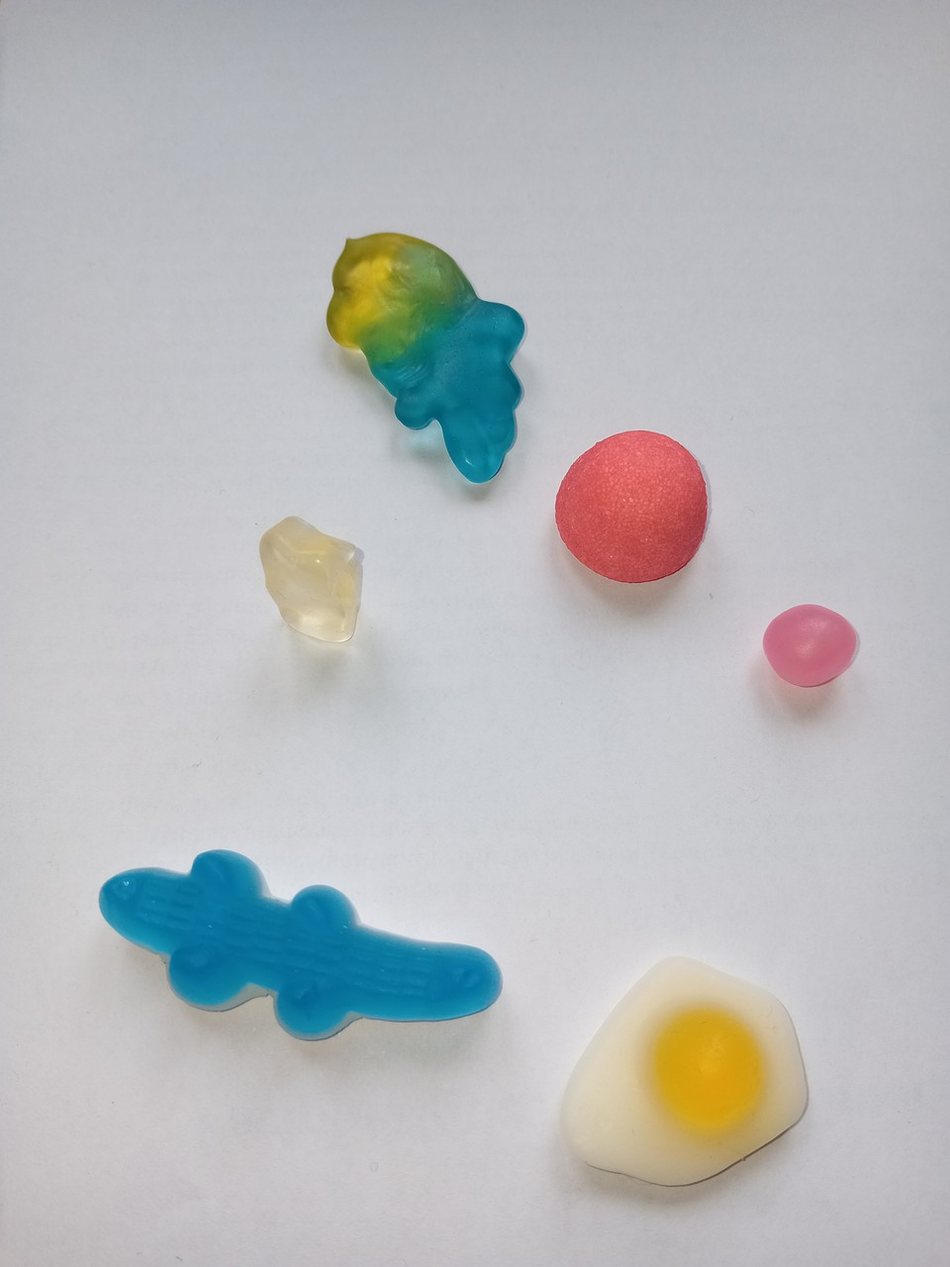crocodile_bleu: (77, 840, 509, 1053)
dragibus_rose: (752, 598, 864, 689)
oeuf_oeuf: (538, 943, 817, 1193)
ourson_blanc: (252, 509, 376, 650)
schtroumpf_bleu-jaune: (313, 223, 534, 491)
tagada_fraise: (547, 427, 716, 589)
